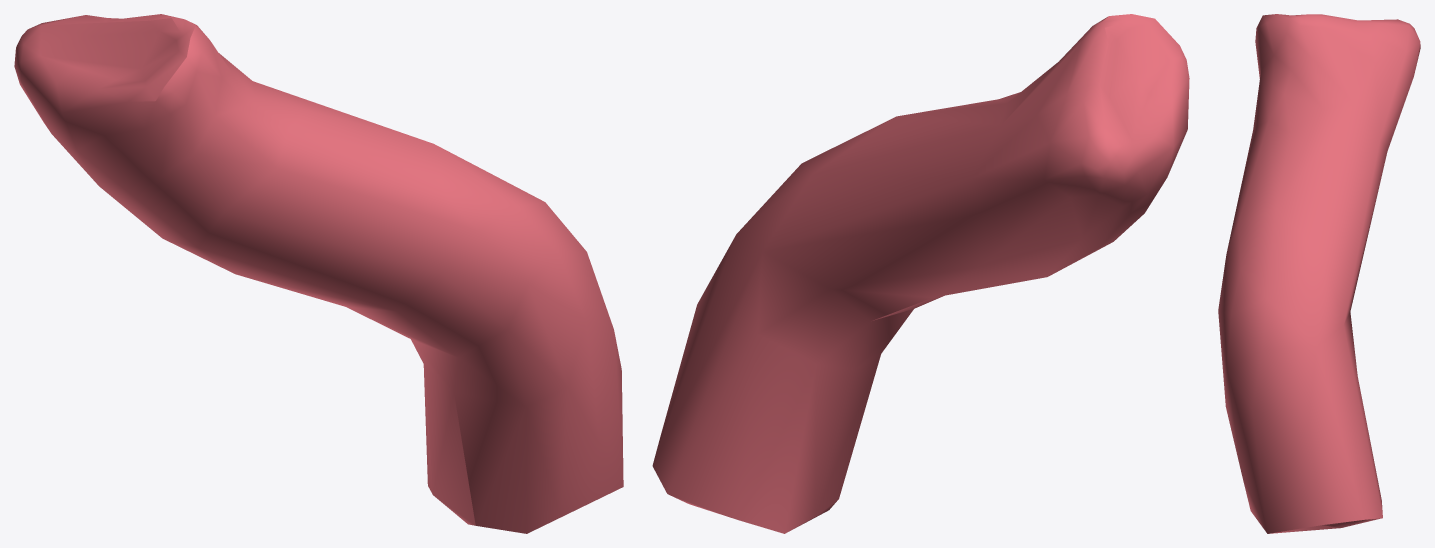
Rendered from fma69316_fj3417.glb.
3 views of the same model, side by side, from view 1: azimuth 30°, elevation 25°; view 2: azimuth 150°, elevation 25°; view 3: azimuth 270°, elevation 25° (orthographic). The views are drawn at different scales.
Parts seen in each view (by area): view 1: FMA69316_FJ3417; view 2: FMA69316_FJ3417; view 3: FMA69316_FJ3417.
Boxes of the visible parts, bbox=[...] form: FMA69316_FJ3417: bbox=[14, 14, 623, 533]; FMA69316_FJ3417: bbox=[652, 14, 1189, 533]; FMA69316_FJ3417: bbox=[1218, 14, 1420, 533].
Size of the model in its own units: 0.0375 by 0.038 by 0.0177.
